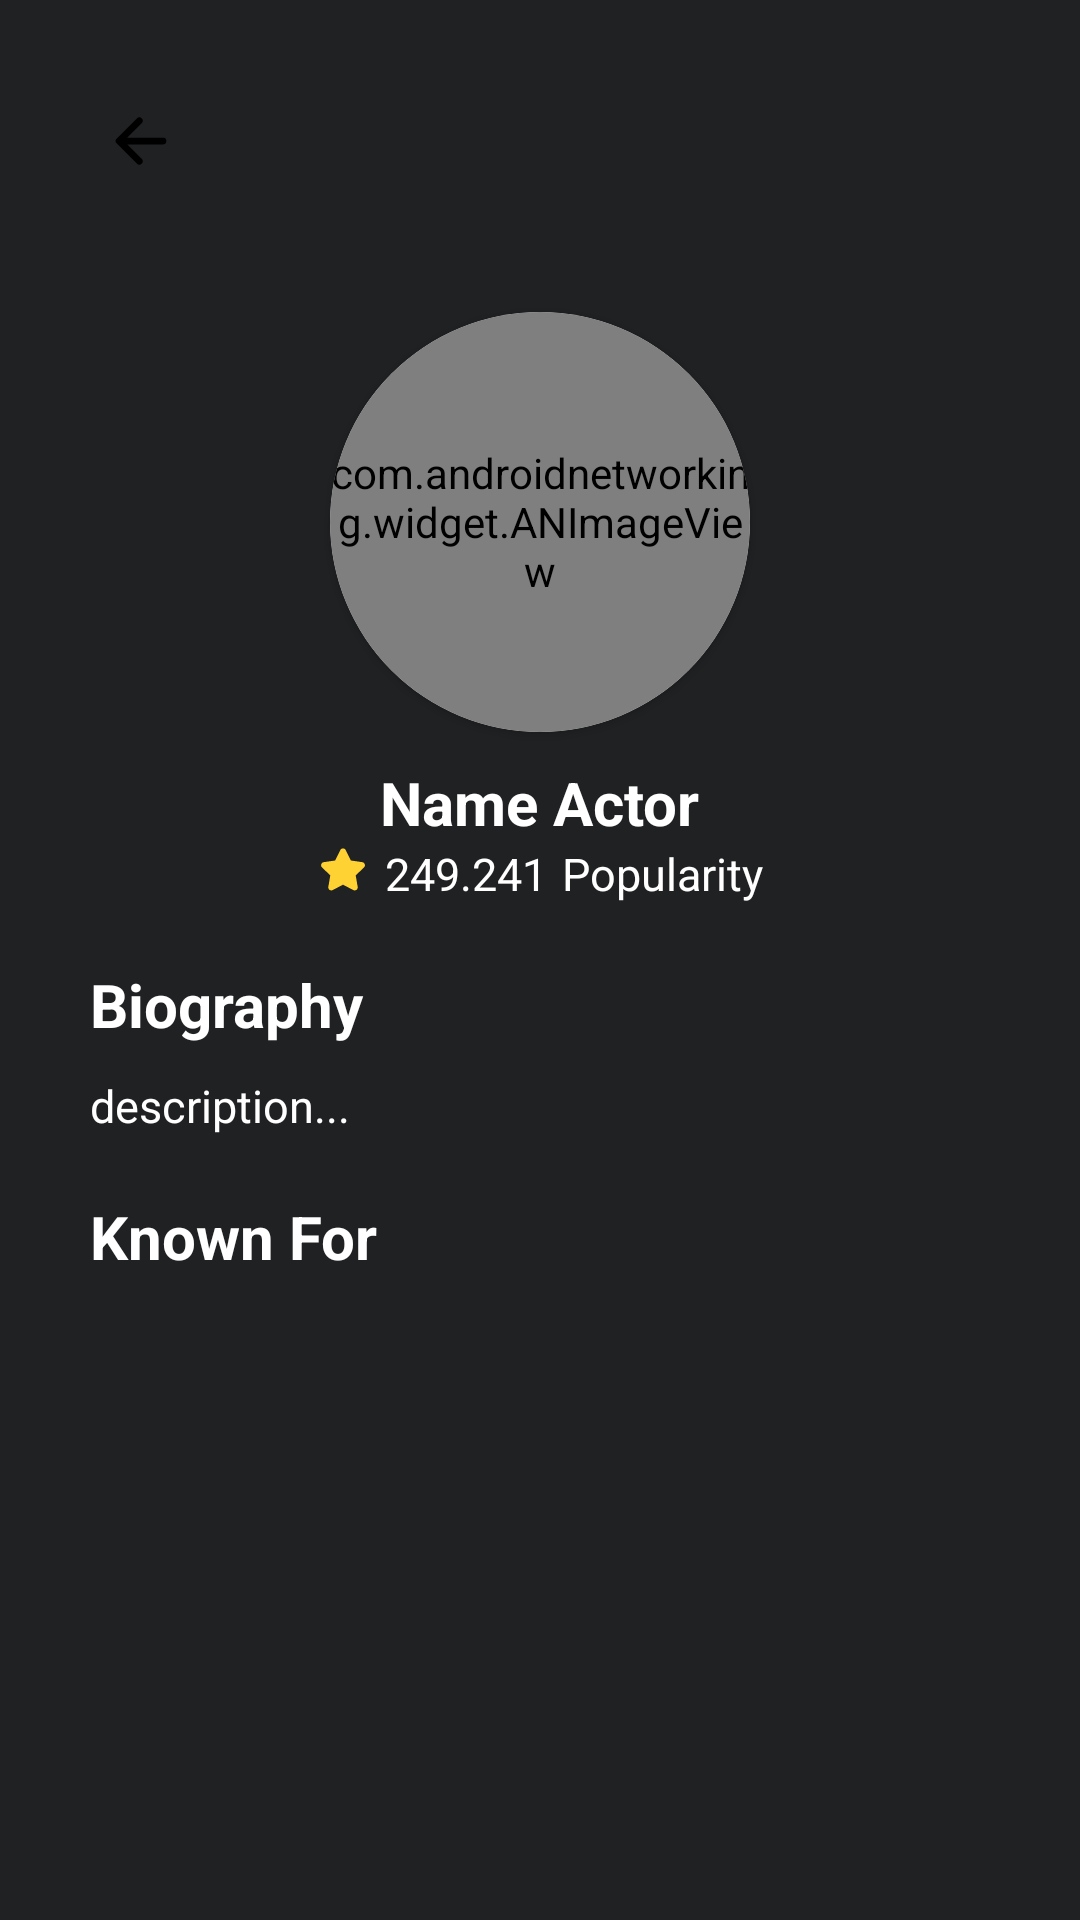

Where icons sit on this 1080px×1920px app screen, as [x1,y1,x2,y2]:
back: [116,117,166,165]
star: [321,848,365,891]
